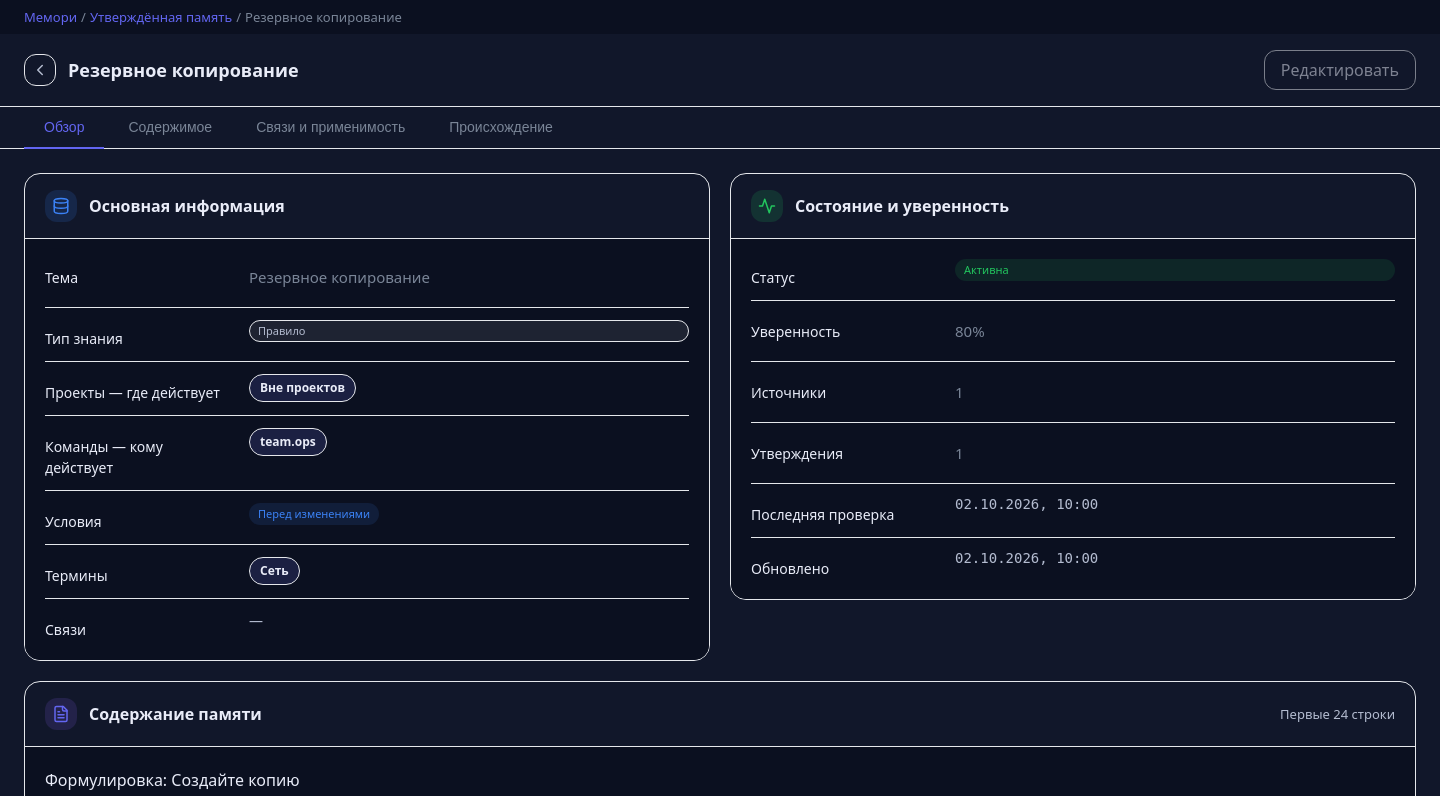
Test: Общая карточка памяти › показывает связи утверждённой памяти и отдельно загружает основания
The width and height of the screenshot is (1440, 796).
Step 1. Click the button "Связи и применимость" → {"x": 331, "y": 128}, box [236, 107, 425, 149]
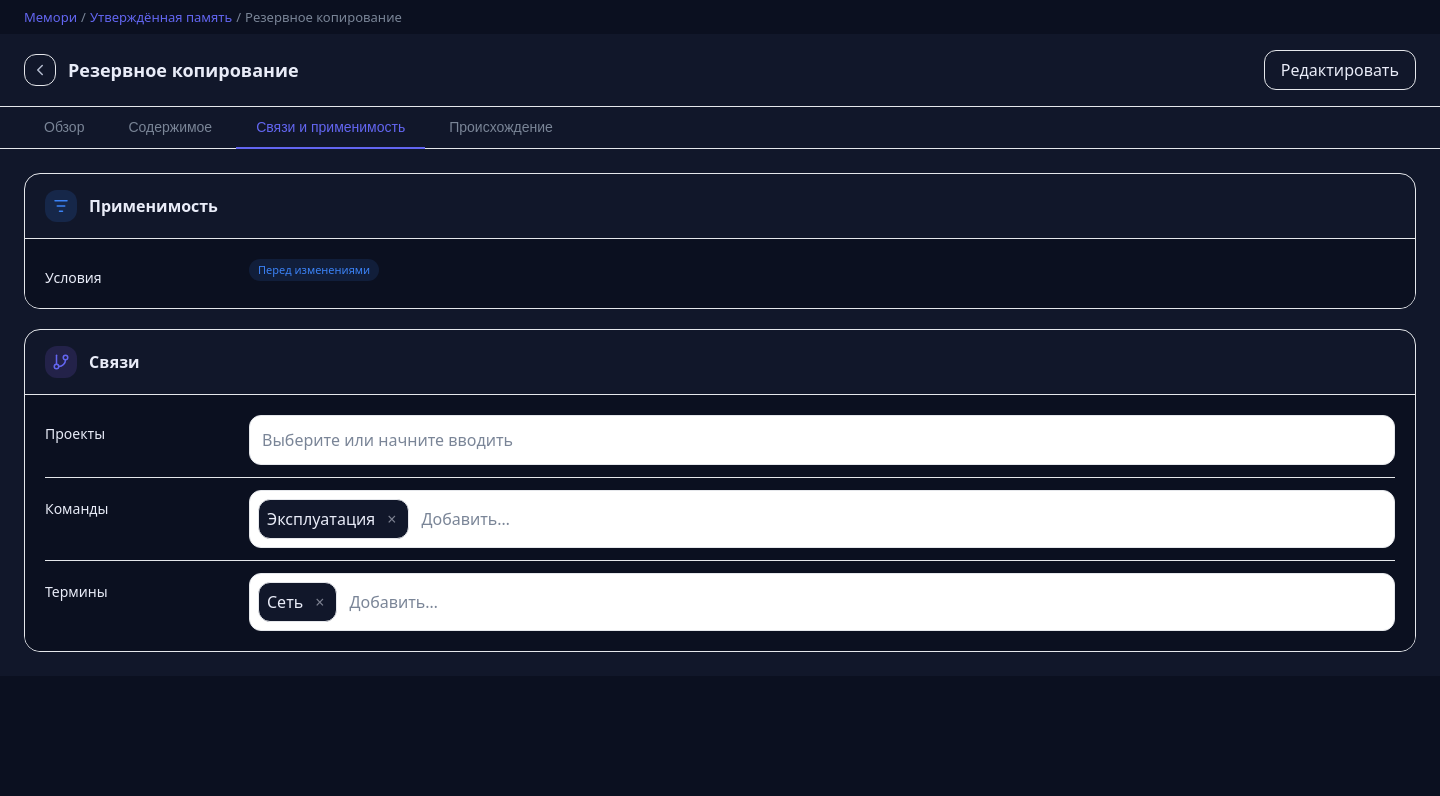
Check: the text "Эксплуатация" is shown, box [267, 509, 375, 530]
Check: the dropdown named "Команды" is disabled, box [417, 503, 1386, 535]
Check: the dropdown named "Термины" is disabled, box [345, 586, 1386, 618]
Step 2. Click the button "Происхождение" → {"x": 501, "y": 128}, box [429, 107, 573, 149]
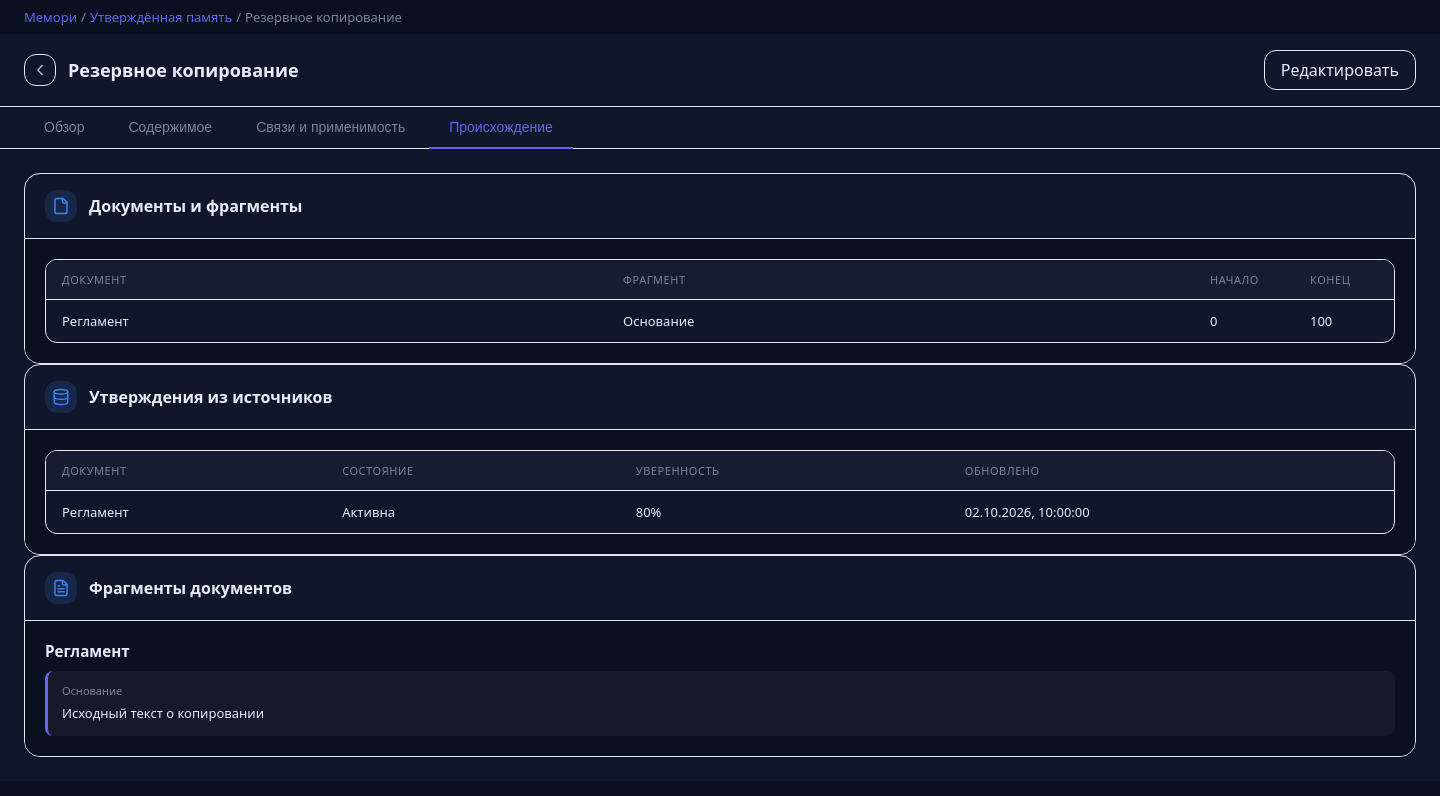
Check: the text "Исходный текст о копировании" is shown, box [62, 704, 264, 722]
Check: the text "Эксплуатация" is gone
Check: the text "Сеть" is gone
